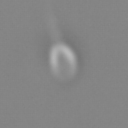normal: (39, 1, 61, 42)
